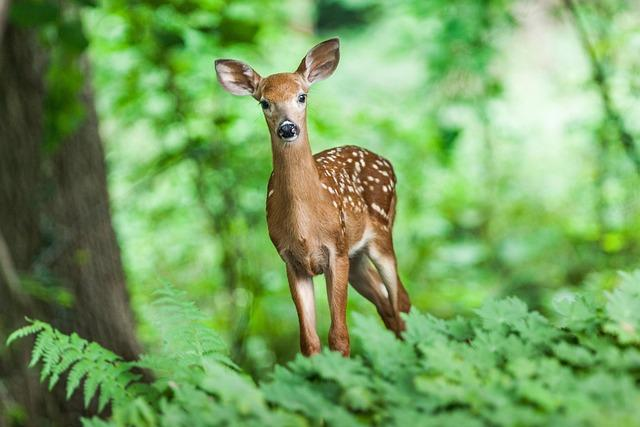Non_Gorille: (74, 0, 579, 427)
